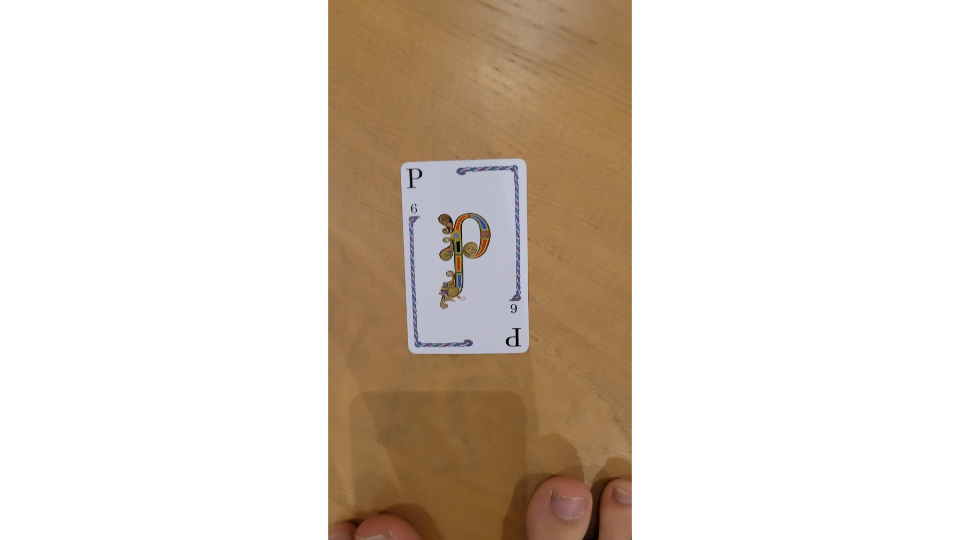P: (399, 157, 535, 357)
